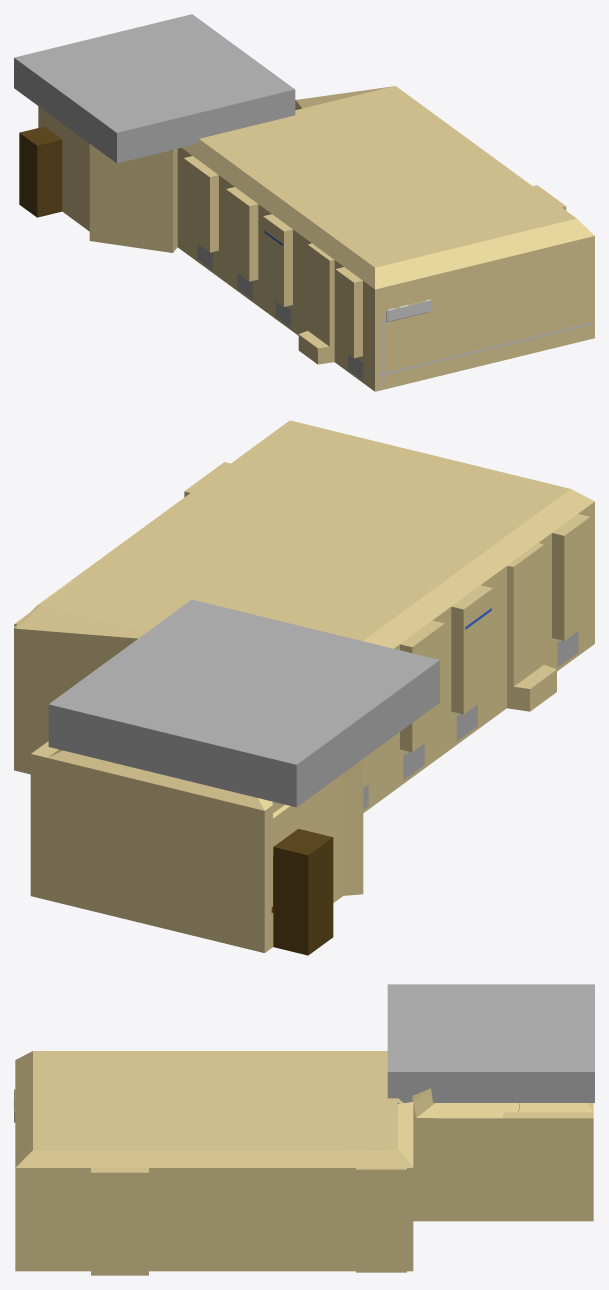
The picture shows the model from 3 angles, top to bottom: view 1: azimuth 30°, elevation 25°; view 2: azimuth 150°, elevation 25°; view 3: azimuth 270°, elevation 25°; orthographic projection. The views are drawn at different scales.
Parts seen in each view (by area): view 1: Cube, Cube.013, Cube.014, Cube.004; view 2: Cube, Cube.013, Cube.014; view 3: Cube, Cube.013.
Part boxes in pixels (<box>): Cube: <box>38,86,594,391</box>; Cube.013: <box>14,14,295,163</box>; Cube.014: <box>19,126,62,217</box>; Cube.004: <box>378,299,592,387</box>; Cube: <box>14,420,594,952</box>; Cube.013: <box>48,599,439,807</box>; Cube.014: <box>273,829,333,955</box>; Cube: <box>15,1051,593,1275</box>; Cube.013: <box>387,984,594,1102</box>.
Size of the model in its own units: 2078 by 926 by 3417.
